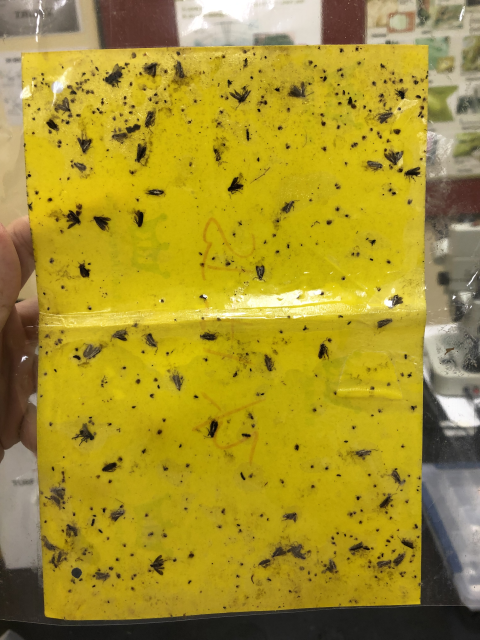DBM: (287, 79, 315, 102), (382, 147, 406, 167), (279, 198, 301, 218), (388, 468, 407, 491), (141, 331, 159, 354), (202, 417, 220, 440), (363, 158, 387, 175), (143, 107, 158, 134), (260, 350, 276, 375), (374, 108, 395, 127), (88, 343, 106, 365), (198, 328, 221, 345), (76, 134, 94, 155), (379, 491, 397, 512), (285, 542, 307, 559), (55, 96, 73, 116), (391, 550, 408, 570), (352, 447, 380, 459), (252, 262, 267, 284), (170, 371, 185, 393), (376, 314, 394, 332), (111, 327, 130, 344), (324, 554, 340, 574), (144, 185, 168, 198), (388, 294, 406, 311), (108, 506, 126, 522), (372, 555, 391, 569), (93, 570, 111, 584), (174, 59, 186, 80), (270, 546, 288, 559), (81, 342, 93, 361), (282, 511, 298, 525), (72, 160, 88, 172)
